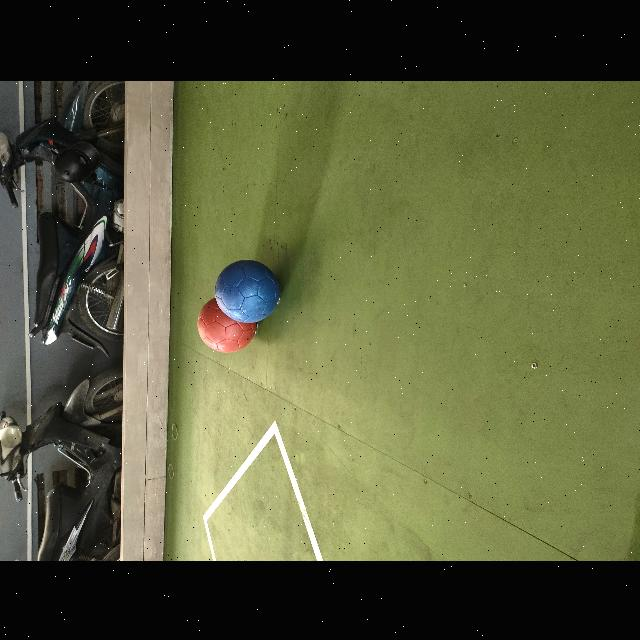B: (215, 259, 279, 322)
R: (198, 297, 257, 351)
